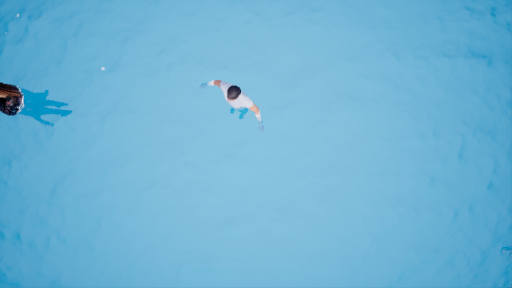person: (199, 80, 269, 134)
